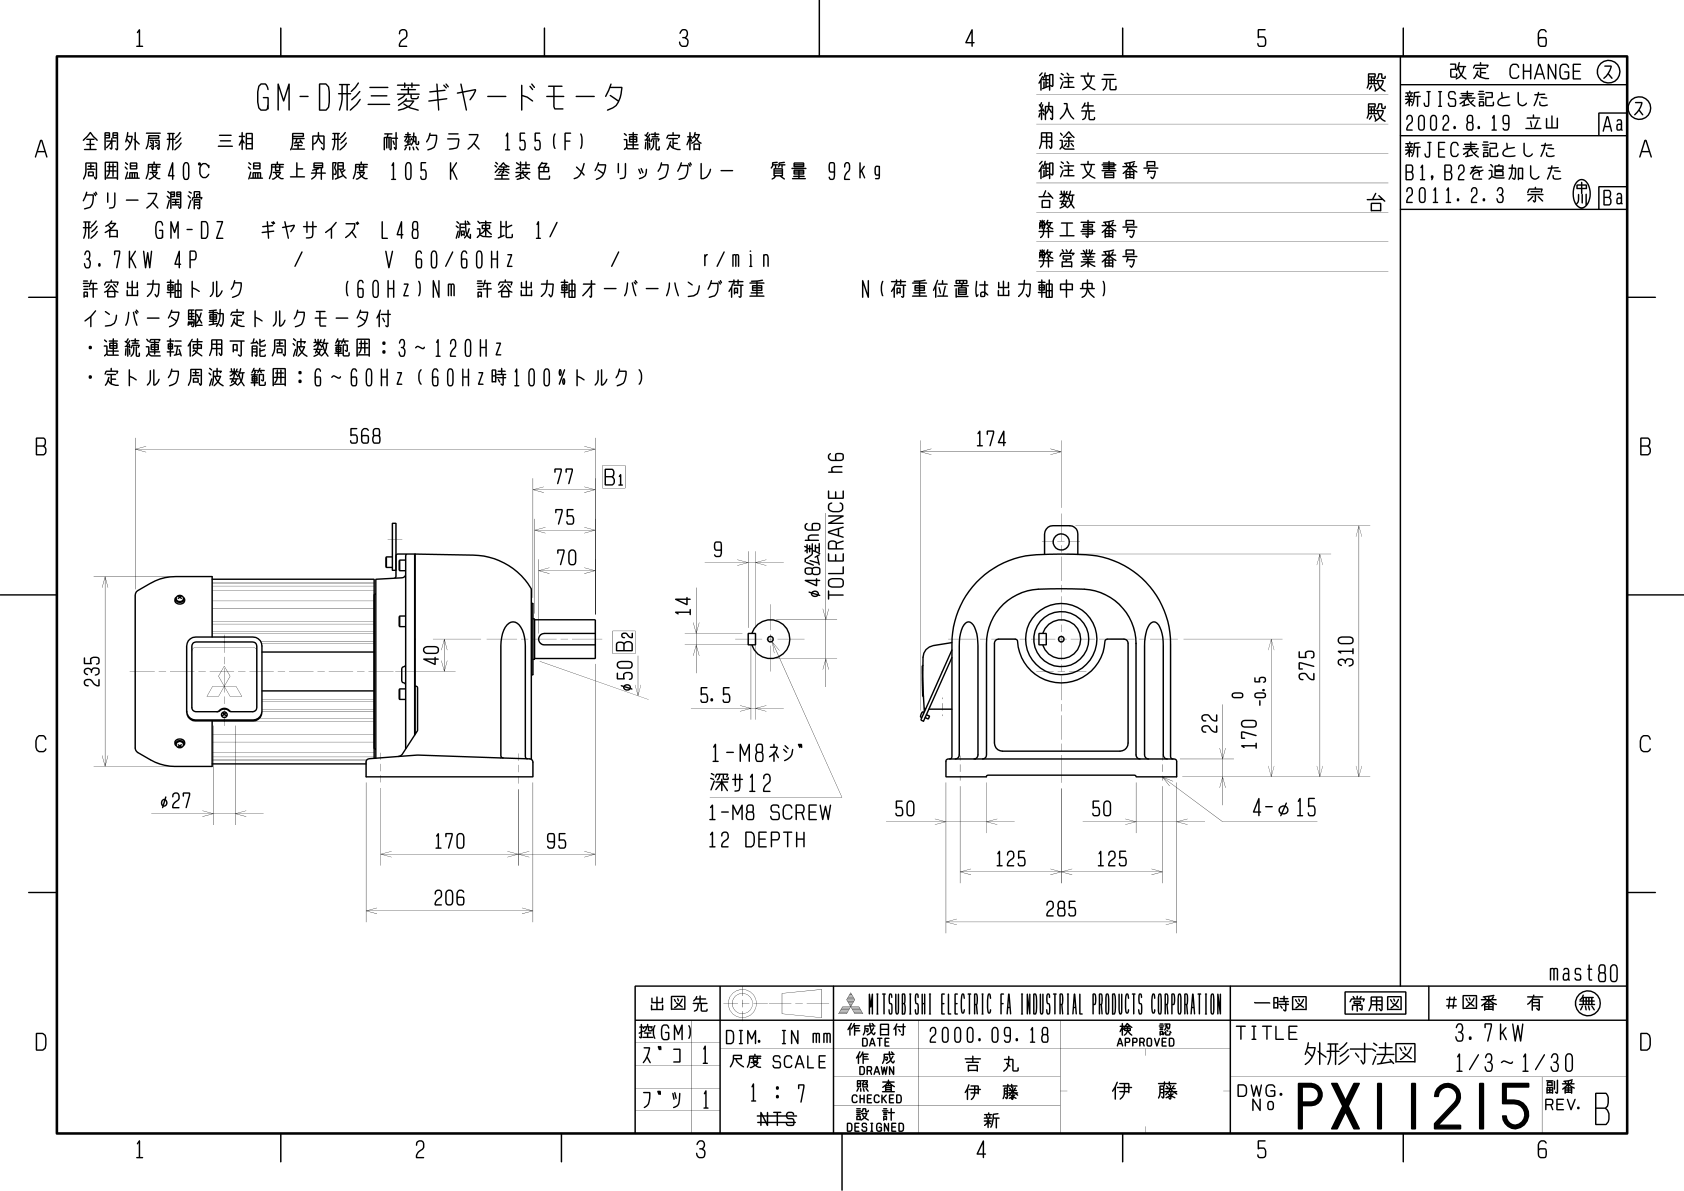GM_D_インバータ屋内_三相_脚: (1, 1, 1672, 1181)
